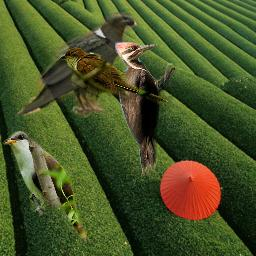Crow: (15, 12, 139, 121)
Cuckoo: (0, 131, 95, 244), (58, 46, 169, 104)
Woodpecker: (115, 42, 175, 176)
